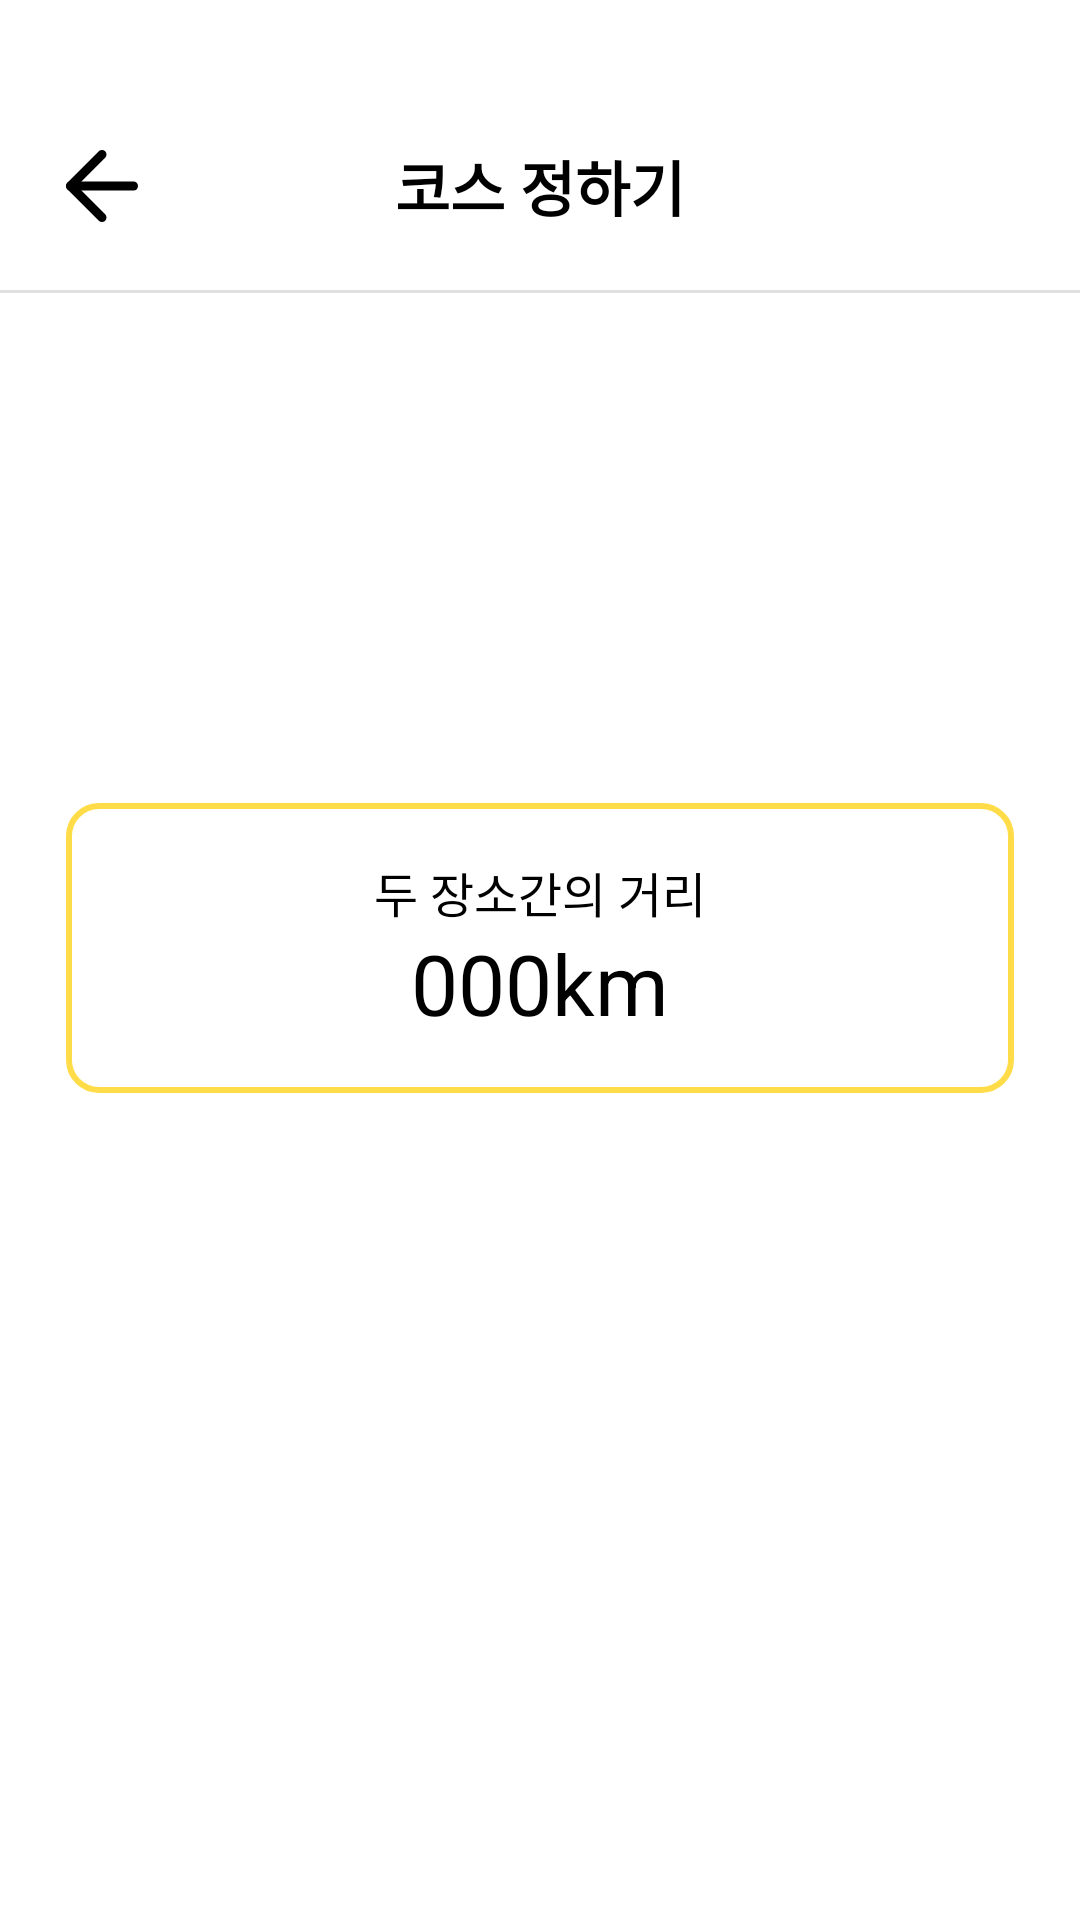

Icon bounding boxes for this 1080px x 1920px phone screenshot, format (x1, y1, x2, y2):
back: (66, 150, 138, 222)
